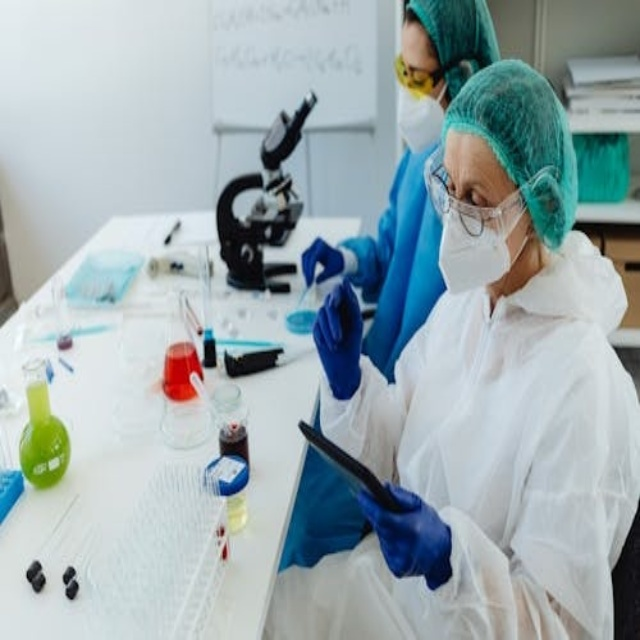Gafas: (426, 154, 540, 240), (395, 53, 454, 100)
Guantes: (356, 478, 453, 589), (313, 277, 364, 402), (301, 238, 345, 290)
Mascara: (431, 167, 525, 295), (397, 75, 448, 157)
